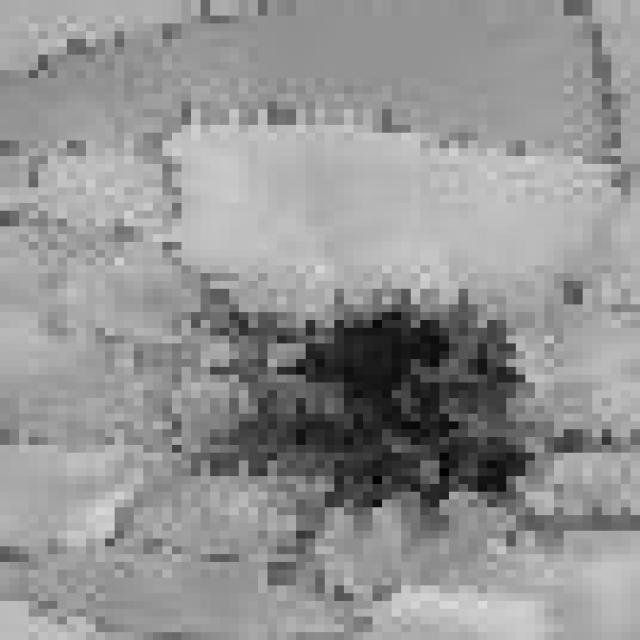good_void: (184, 270, 584, 588)
